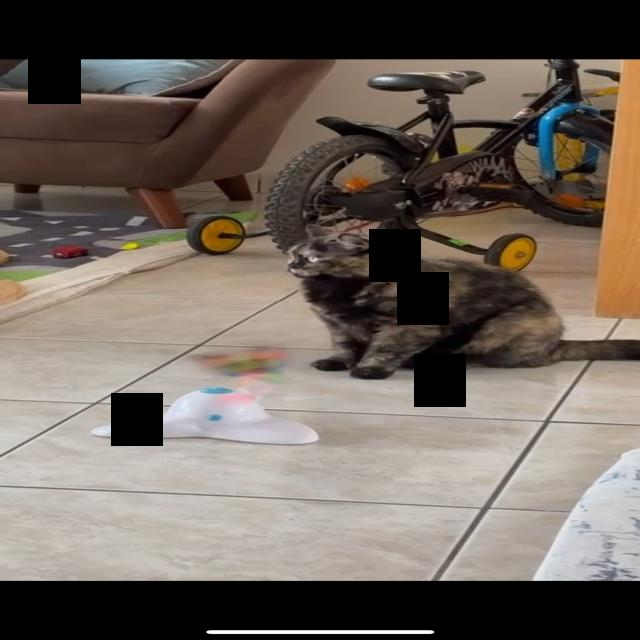authorized: (283, 225, 639, 380)
